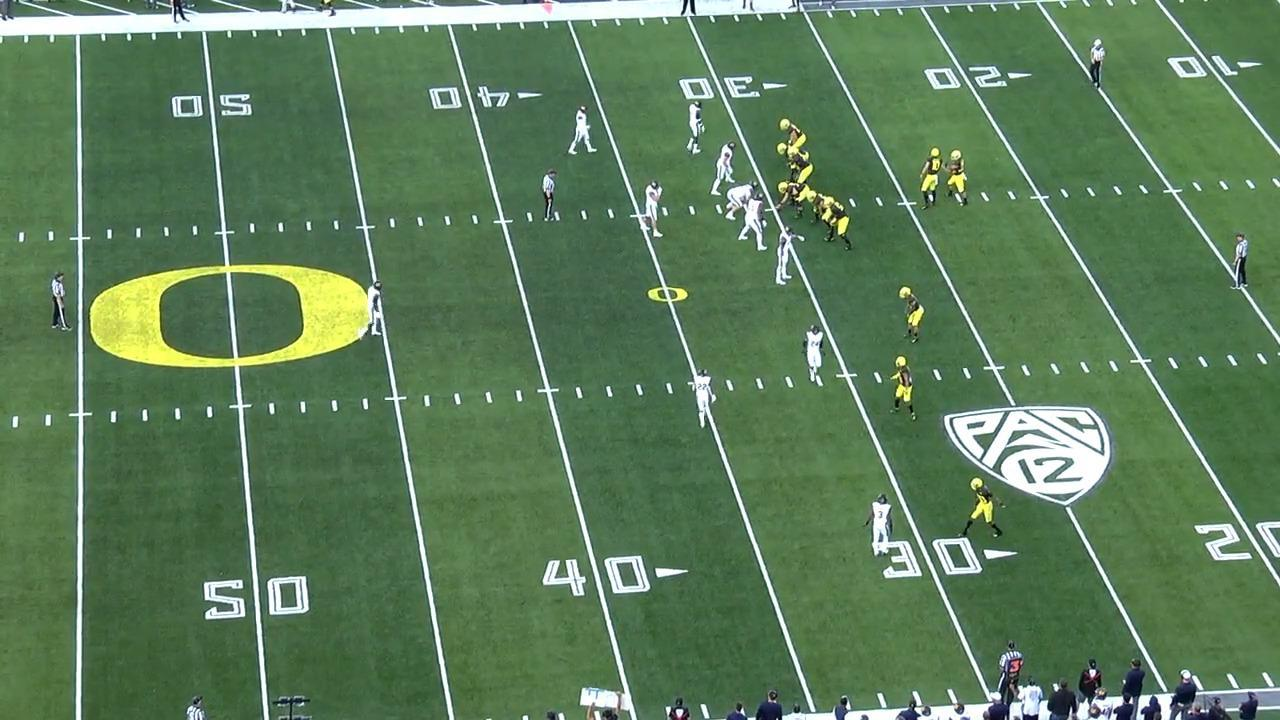defense: (868, 492, 899, 564), (797, 324, 830, 390), (689, 366, 721, 433), (738, 191, 771, 252), (639, 177, 668, 241), (769, 225, 798, 288), (709, 139, 738, 199), (358, 279, 386, 341), (719, 183, 757, 223), (568, 103, 596, 156), (687, 100, 708, 157)
oline: (818, 197, 857, 254), (804, 187, 840, 229), (773, 181, 814, 217), (787, 147, 814, 183), (775, 142, 810, 161)
qb: (918, 144, 944, 211)
ref: (990, 637, 1026, 706), (47, 271, 76, 337), (1228, 231, 1251, 293), (540, 168, 564, 223), (1087, 36, 1109, 95), (180, 694, 220, 720), (170, 0, 193, 26), (679, 0, 703, 17)
skill: (959, 475, 1007, 545), (885, 357, 914, 424), (899, 285, 926, 348), (941, 146, 968, 209), (776, 114, 808, 154)
